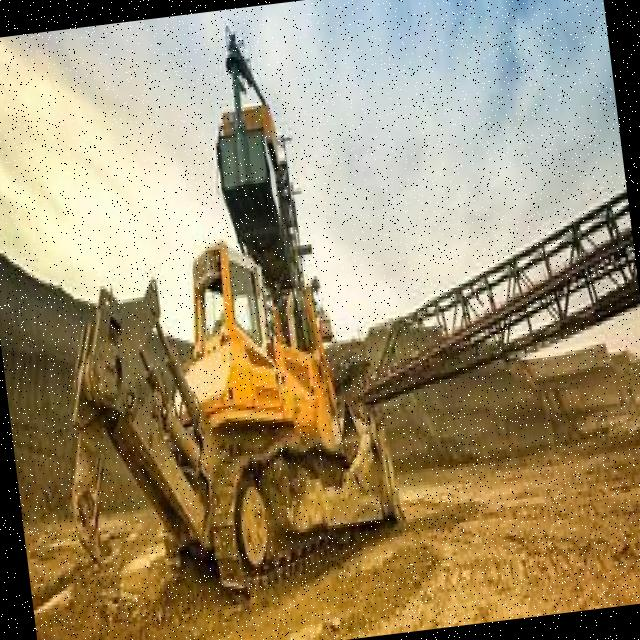Bulldozer: (34, 162, 426, 594)
